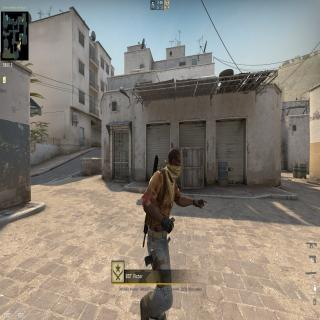T-Head: (165, 143, 182, 184)
